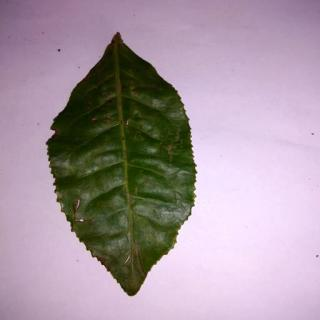Bird Eye Spot: (48, 31, 199, 301)
